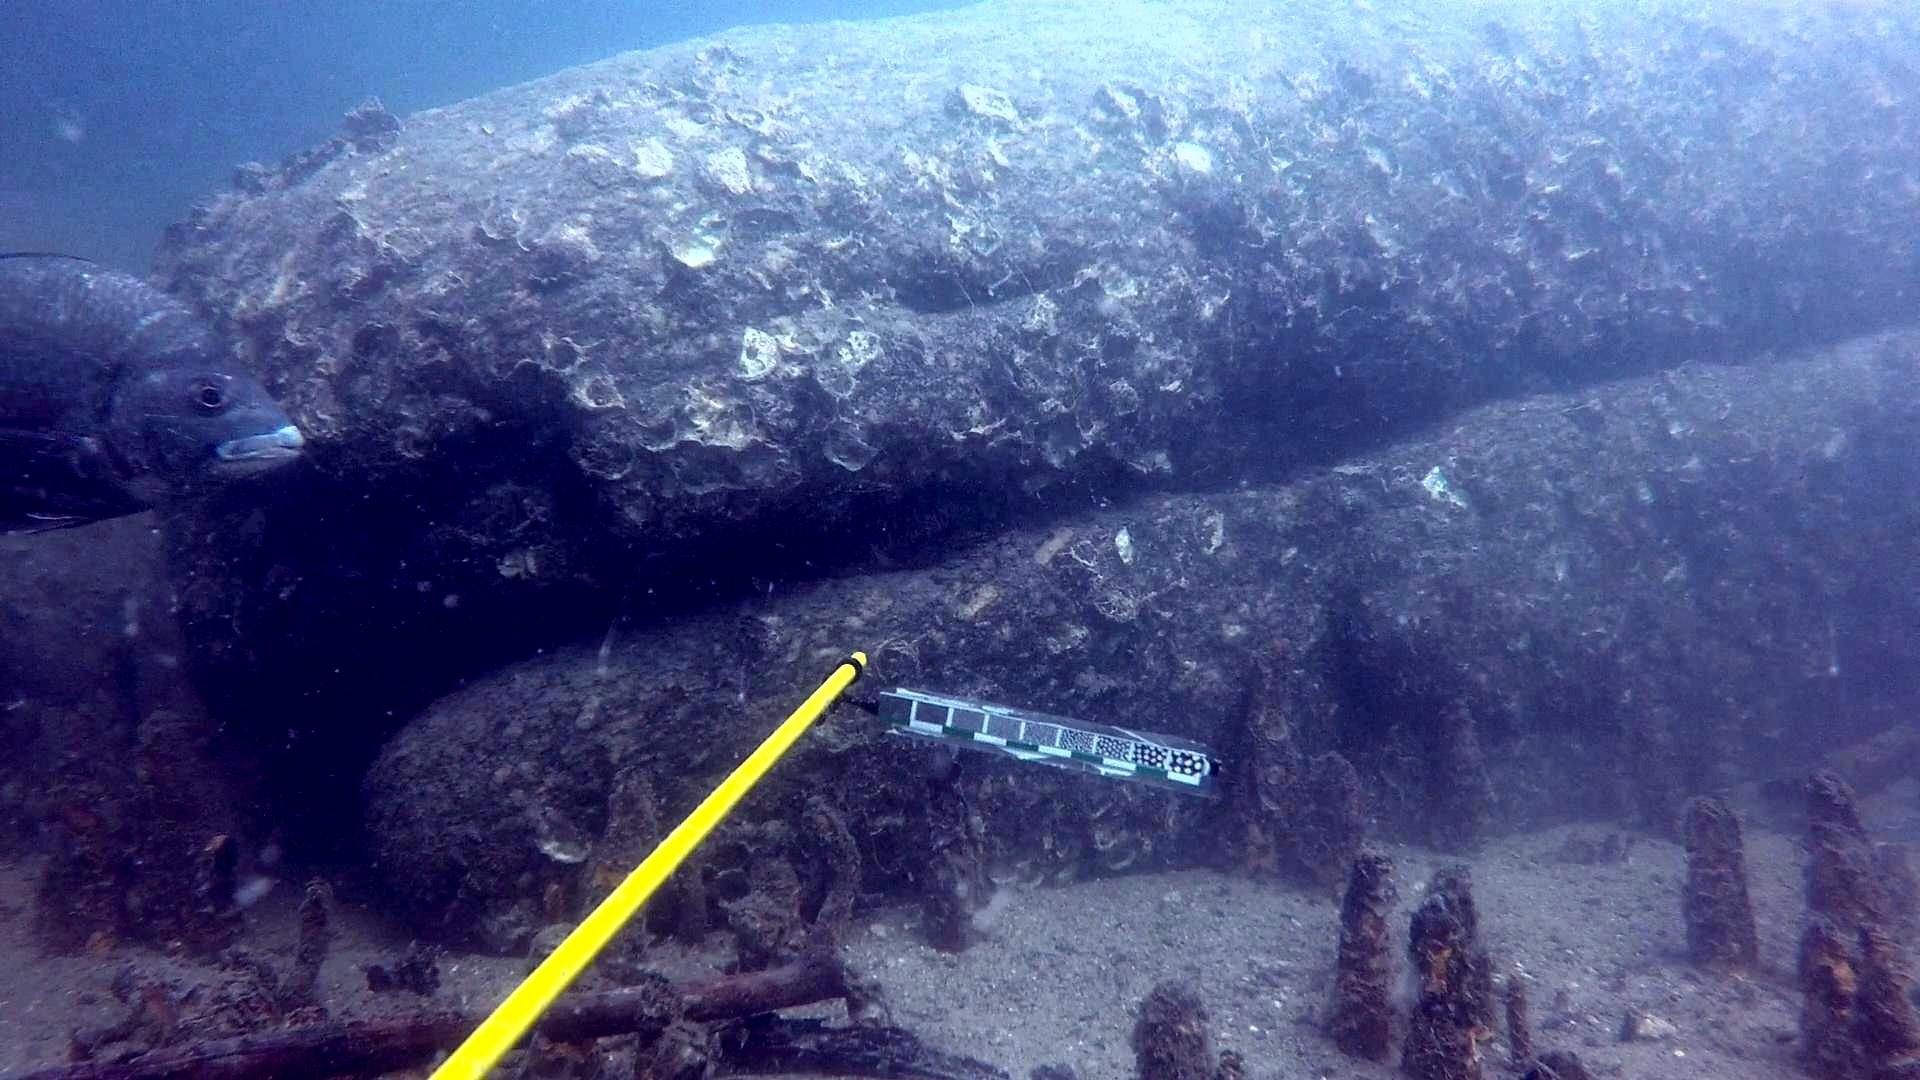acanthopagrus palmaris: (0, 236, 306, 555)
